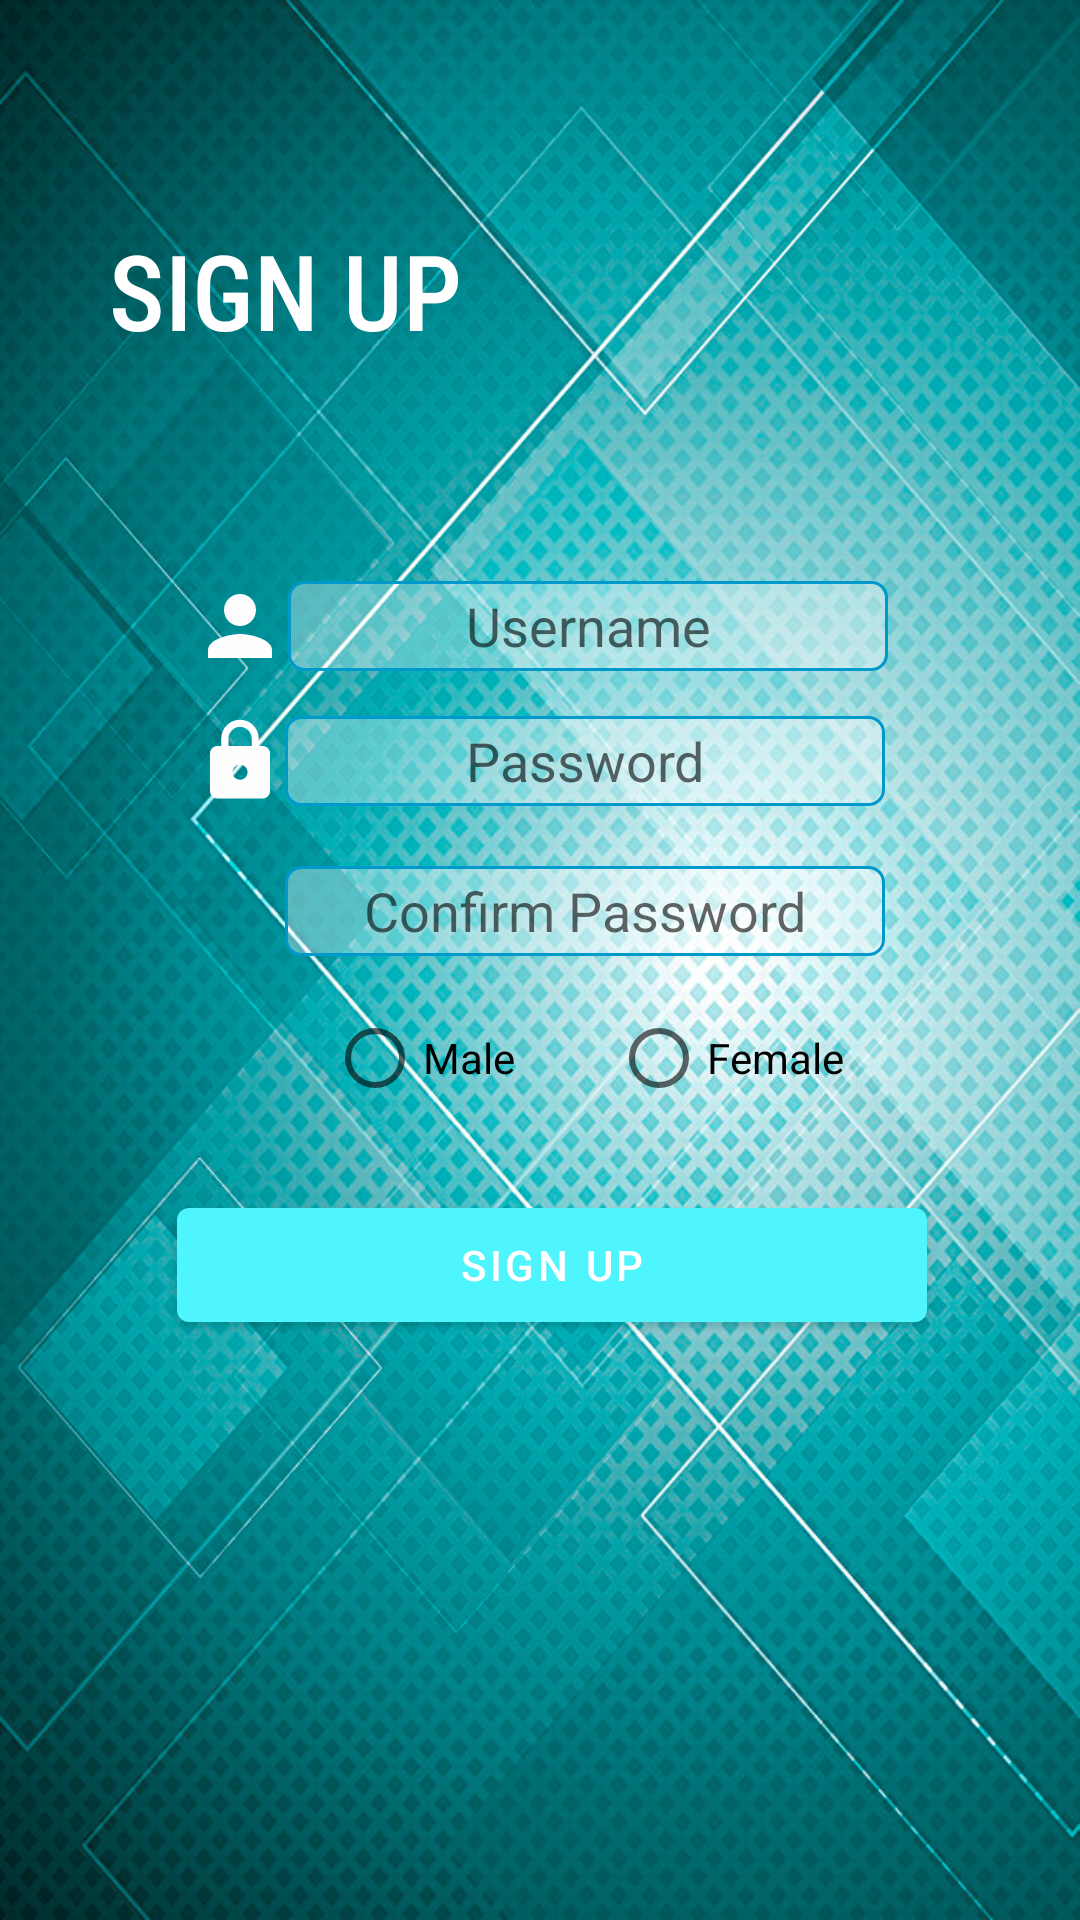

Where icons sit on this 1080*1920 app screen, as (x1, y1, x2, y2):
lock: (195, 716, 285, 806)
